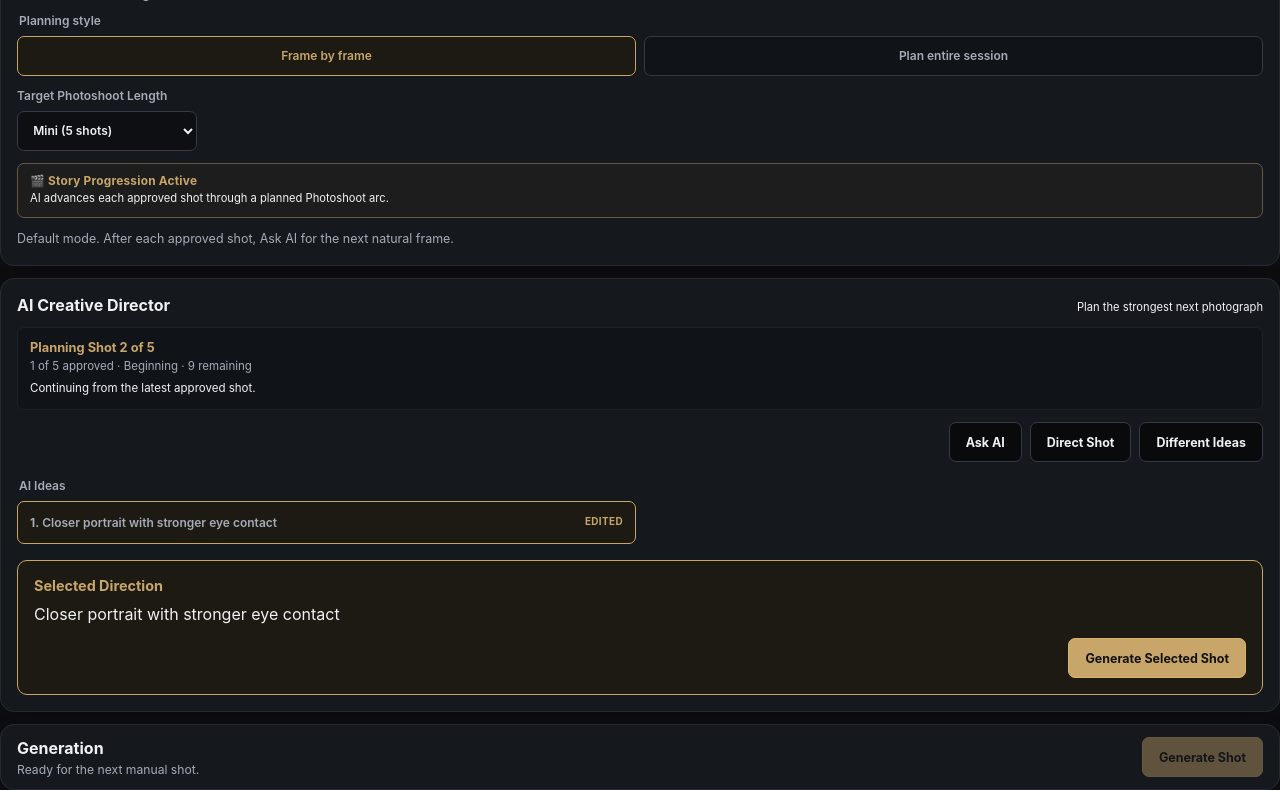
Test: PhotoshootPage Phase 1 › automatically develops, approves, plans, populates the prompt, and submits the selected shot
(page scrolled)
Step 1. Click the button "Generate Selected Shot" → (1157, 658), box [1068, 638, 1246, 678]
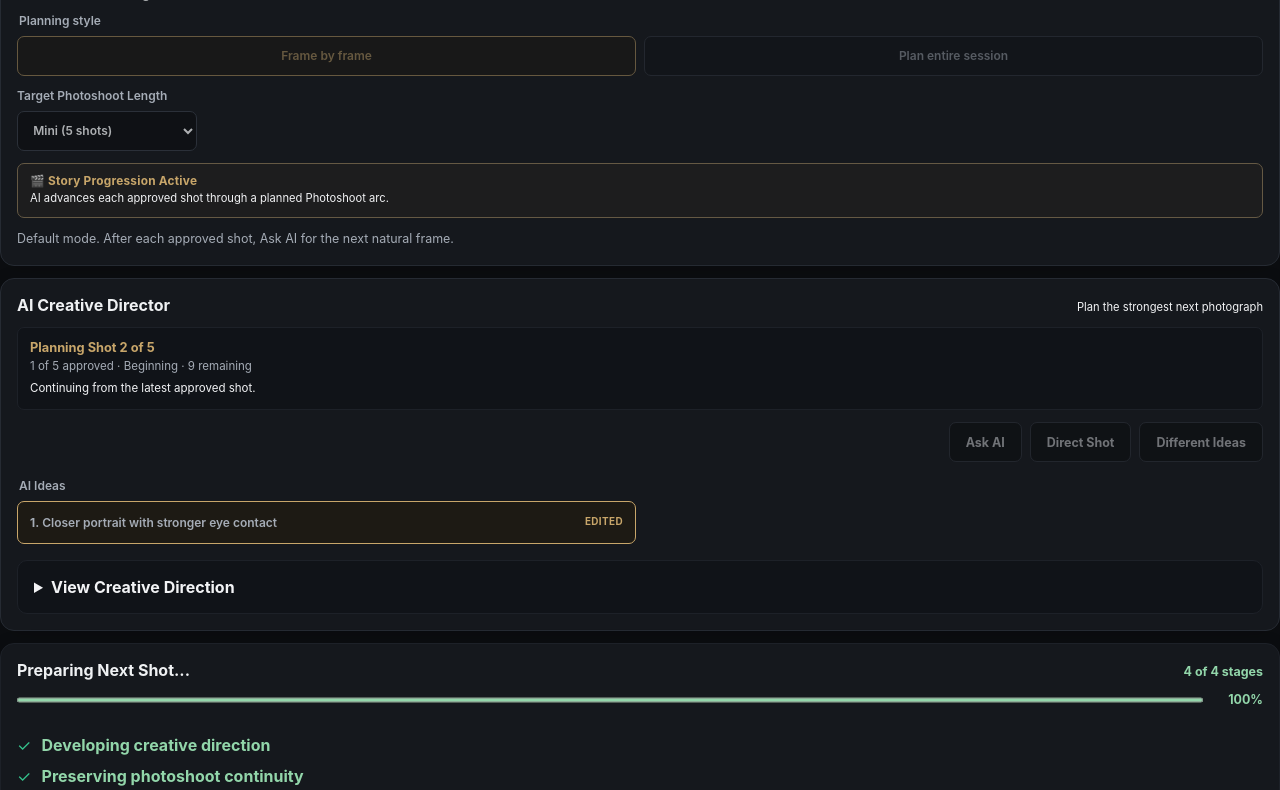
Result: the heading "View Creative Direction" is shown at [51, 578, 235, 598]
